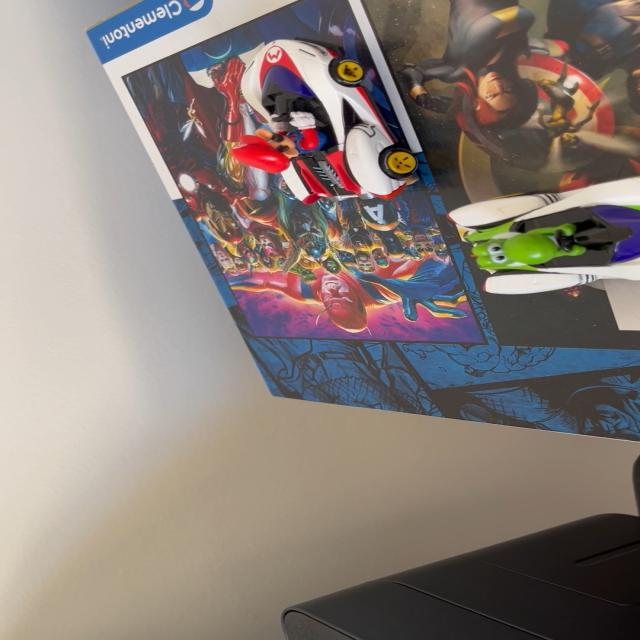mario: (218, 30, 435, 212)
yoshi: (432, 177, 634, 313)
